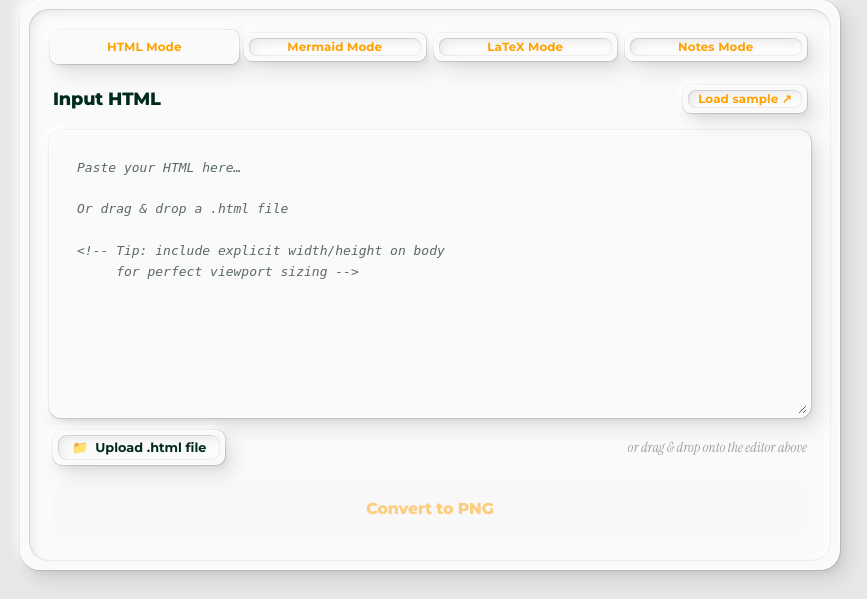
Test case: NotesConverter & Notes Mode integration › Test Case 6: Switch between modes in App -> no crash or state leakage
Expected: the text box named "Input HTML" is shown, top-left (53, 134), bottom-right (807, 414)
Click the button "Notes Mode". click: (716, 47)
box: top-left (624, 33), bottom-right (807, 61)
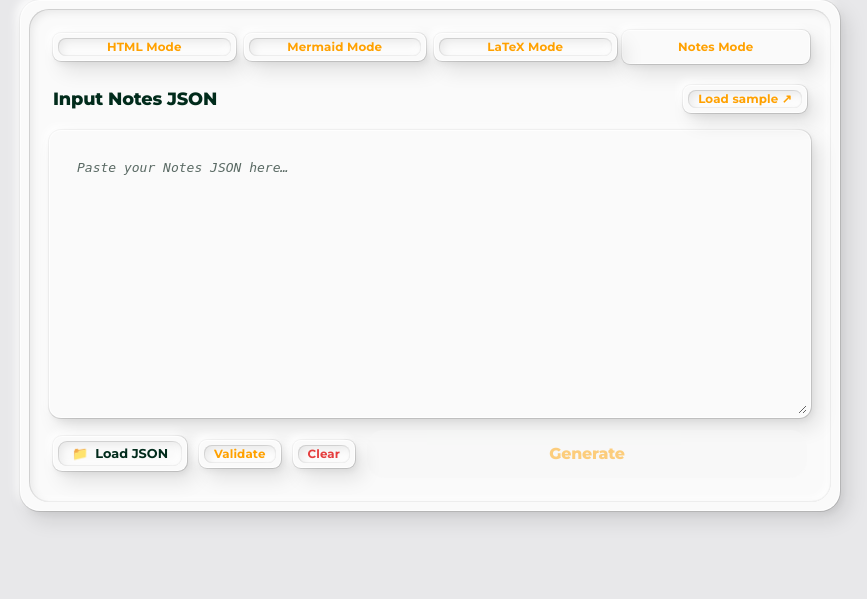
Now the text box named "Input Notes JSON" is shown, box top-left (53, 134), bottom-right (807, 414)
Click the button "HTML Mode". click: (144, 47)
box: top-left (53, 33), bottom-right (236, 61)
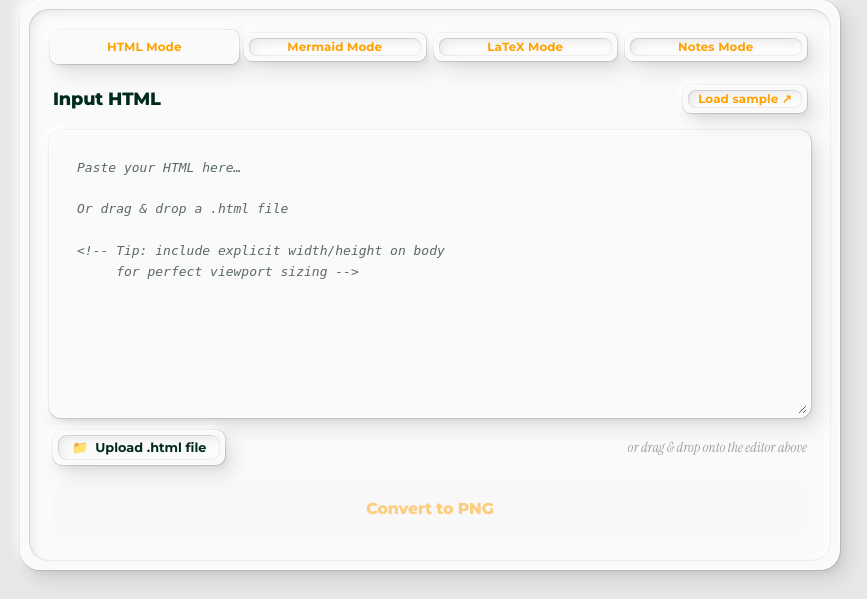
Now the text box named "Input HTML" is shown, box top-left (53, 134), bottom-right (807, 414)
